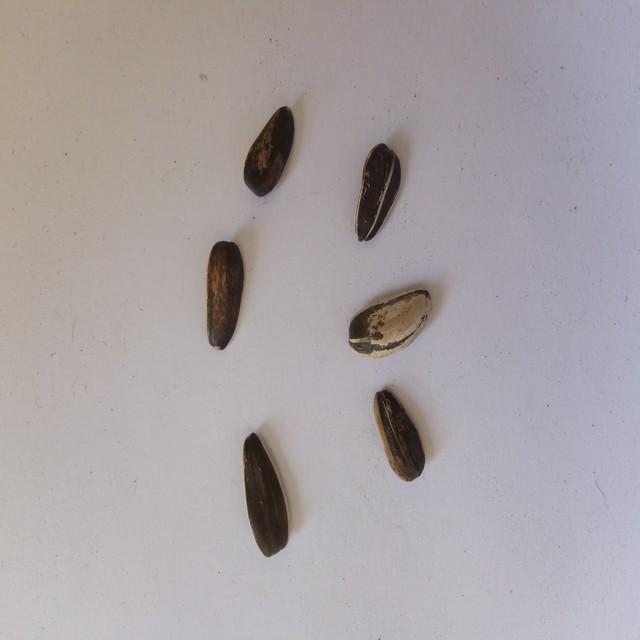girasol: (235, 425, 302, 563), (342, 281, 442, 362), (368, 383, 434, 486), (238, 100, 299, 201), (198, 235, 248, 358), (353, 138, 402, 250)
